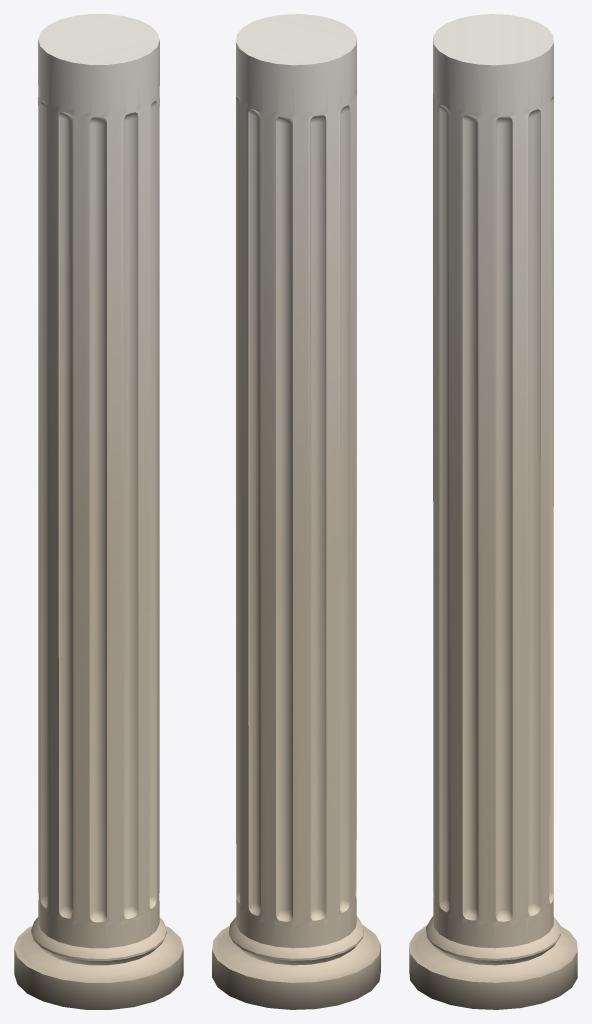
File: TemplePillar_v2.fbx
3 views of the same model, side by side, from view 1: azimuth 30°, elevation 25°; view 2: azimuth 150°, elevation 25°; view 3: azimuth 270°, elevation 25° (orthographic).
Visible parts, largest first — view 1: Pillar; view 2: Pillar; view 3: Pillar.
Boxes of the visible parts, x1,y1,x2,y2 form: Pillar: (14,14,183,1009); Pillar: (212,14,380,1009); Pillar: (409,14,577,1009).
Size of the model in its own units: 82.36 by 501 by 81.97.
